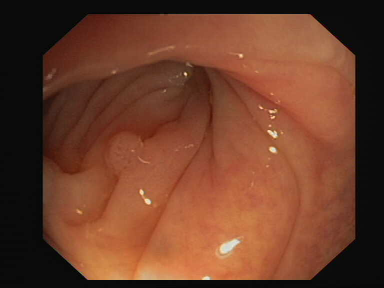polyp: (98, 123, 154, 184)
